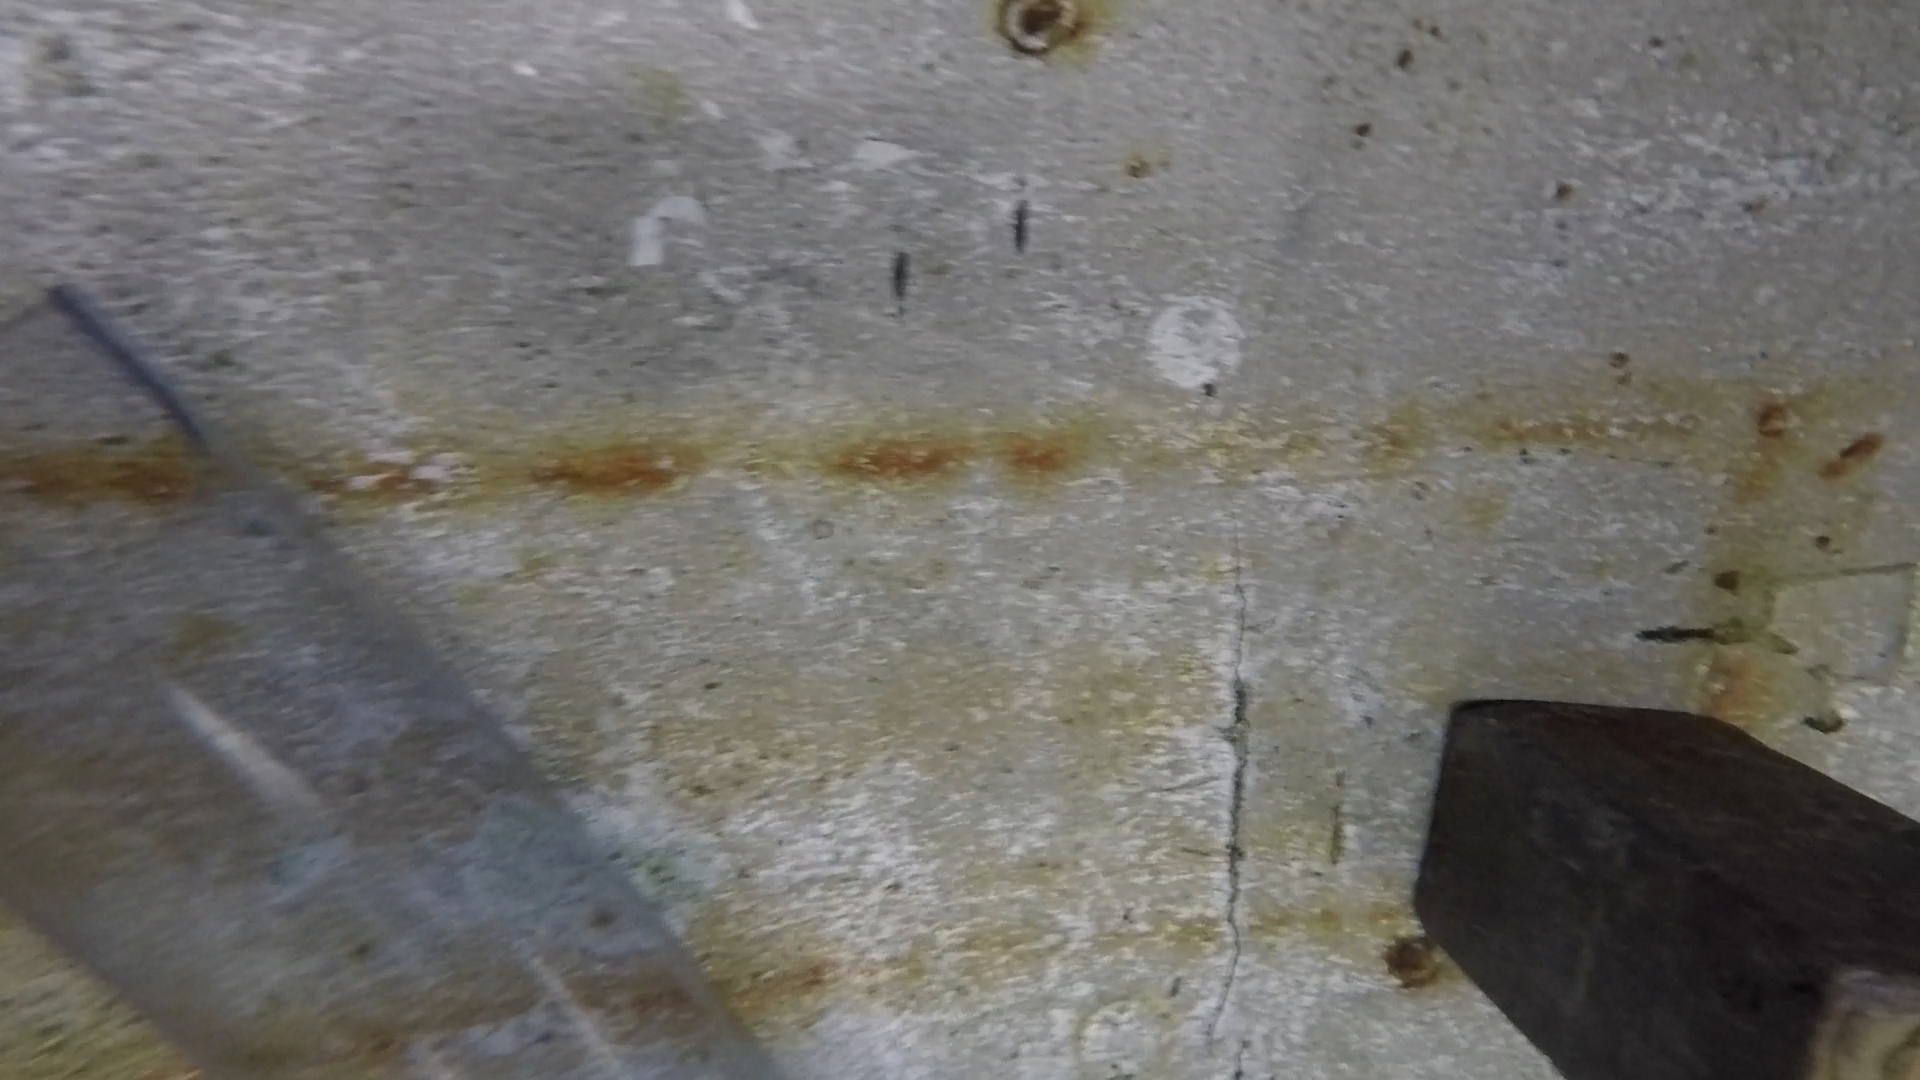led_block: (1, 287, 771, 1080)
pipe: (1416, 694, 1920, 1080)
